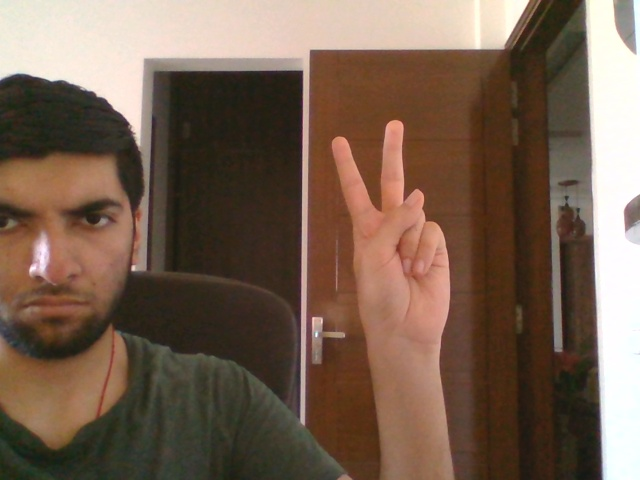LetterK: (331, 119, 451, 349)
